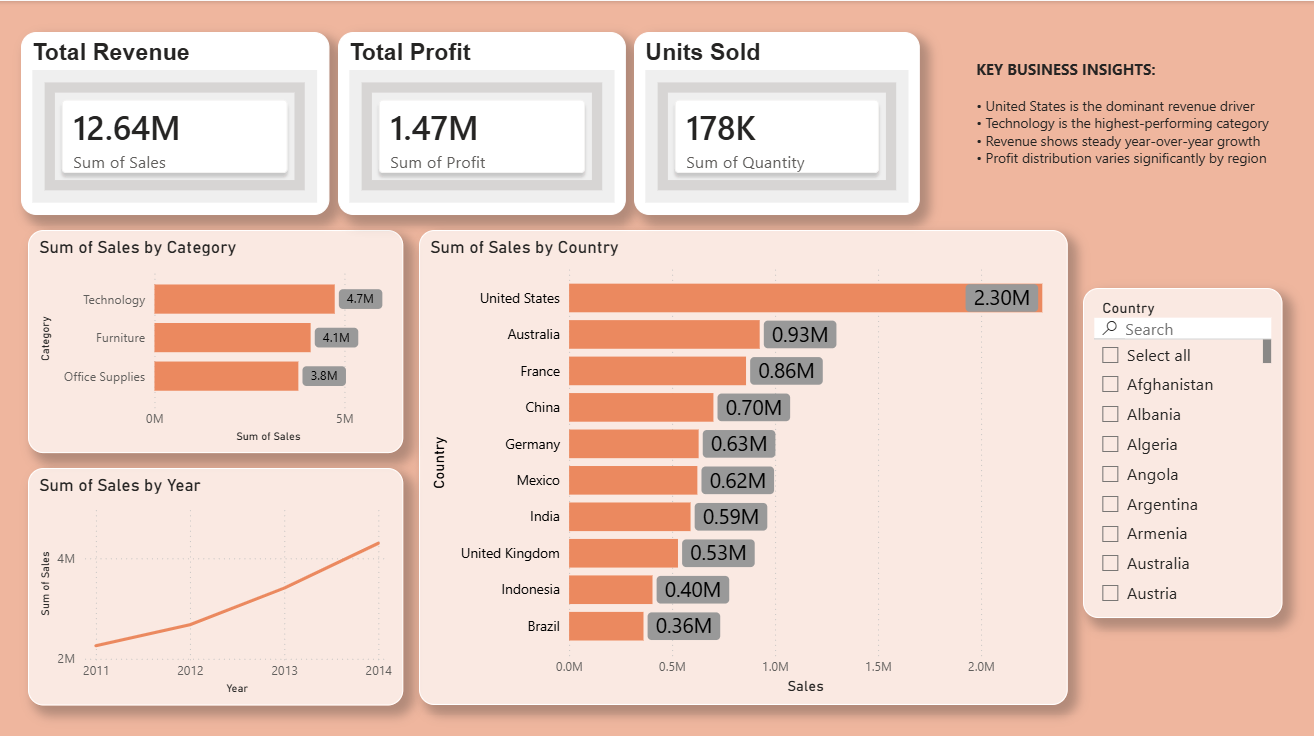

The page's visual inventory and layout, read from the dashboard file:
{"tool":"powerbi","page":{"name":"Page 1","canvas":[1280,720],"ordinal":0},"visuals":[{"type":"cardVisual","title":"Total Revenue","fields":{"Data":["Sum(Sheet1.Sales)"]},"box":[20.4,30.2,299.6,178],"z":0},{"type":"clusteredBarChart","fields":{"Category":["Sheet1.Category"],"Y":["Sum(Sheet1.Sales)"]},"box":[27.2,222.7,364.7,216.9],"z":1000},{"type":"cardVisual","title":"Total Profit","fields":{"Data":["Sum(Sheet1.Profit)"]},"box":[328.8,30.2,280.1,178],"z":2000},{"type":"lineChart","fields":{"Category":["Sheet1.Order Date.Variation.Date Hierarchy.Year","Sheet1.Order Date.Variation.Date Hierarchy.Quarter","Sheet1.Order Date.Variation.Date Hierarchy.Month","Sheet1.Order Date.Variation.Date Hierarchy.Day"],"Y":["Sum(Sheet1.Sales)"]},"box":[27.2,454.2,364.7,230.5],"z":3000},{"type":"cardVisual","title":"Units Sold","fields":{"Data":["Sum(Sheet1.Quantity)"]},"box":[616.7,30.2,278.2,178],"z":4000},{"type":"clusteredBarChart","fields":{"Category":["Sheet1.Country"],"Y":["Sum(Sheet1.Sales)"]},"box":[407.5,222.7,631.2,462],"z":5000},{"type":"textbox","box":[944.4,50.6,302.5,172.2],"z":6000},{"type":"slicer","fields":{"Values":["Sheet1.Country"]},"box":[1053.4,279.1,193.6,321],"z":7000}]}

Visuals, with their boxes in screenshot pixels (x1, y1, x2, y2), scaled from the page's 1280x720 canvas onto the 1314x736 screenshot:
"Total Revenue" cardVisual: bbox(21, 31, 328, 213)
clusteredBarChart - Sheet1.Category x Sum(Sheet1.Sales): bbox(28, 228, 402, 449)
"Total Profit" cardVisual: bbox(338, 31, 625, 213)
lineChart - Sheet1.Order Date.Variation.Date Hierarchy.Year x Sheet1.Order Date.Variation.Date Hierarchy.Quarter: bbox(28, 464, 402, 700)
"Units Sold" cardVisual: bbox(633, 31, 919, 213)
clusteredBarChart - Sheet1.Country x Sum(Sheet1.Sales): bbox(418, 228, 1066, 700)
textbox: bbox(969, 52, 1280, 228)
slicer - Sheet1.Country: bbox(1081, 285, 1280, 613)
